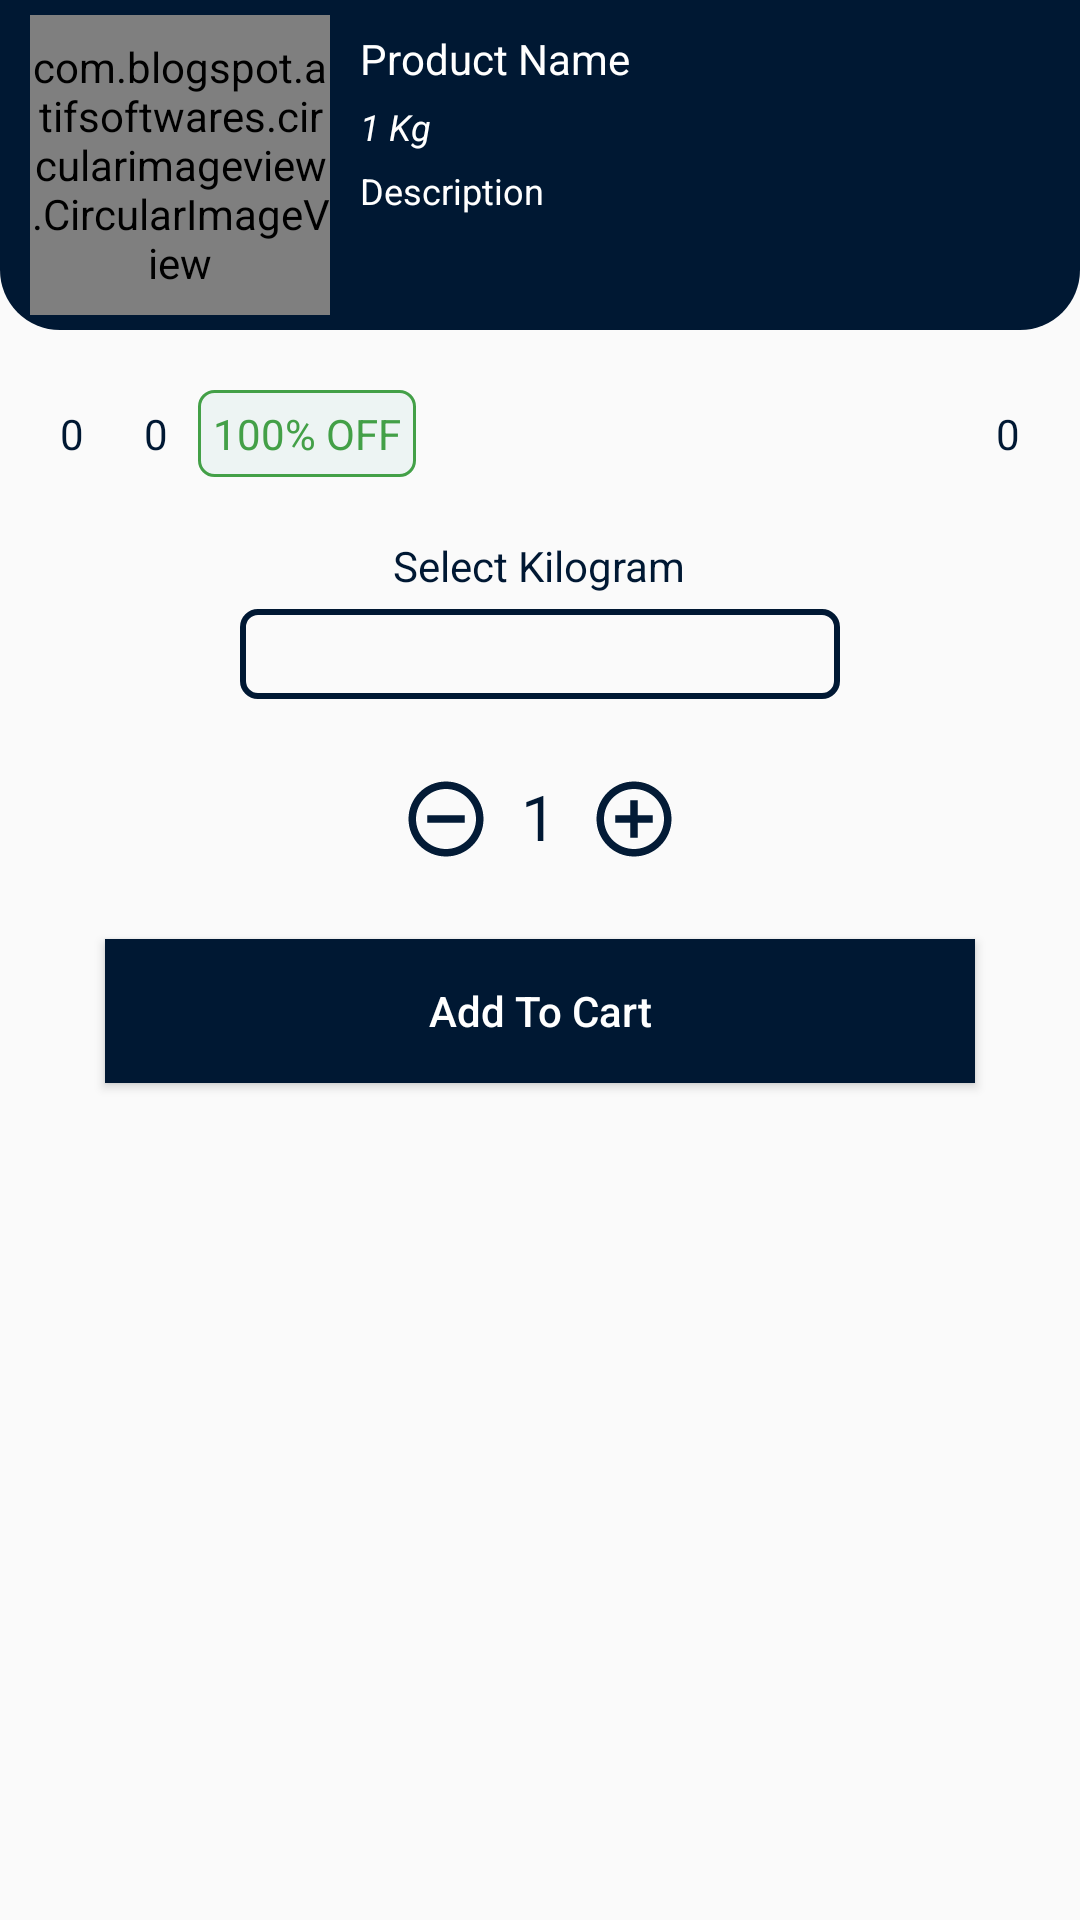

Screen size 1080*1920. Icon name, then its box in pixels as (x1, y1, x2, y2):
decrement: (408, 781, 484, 857)
increment: (596, 781, 672, 857)
